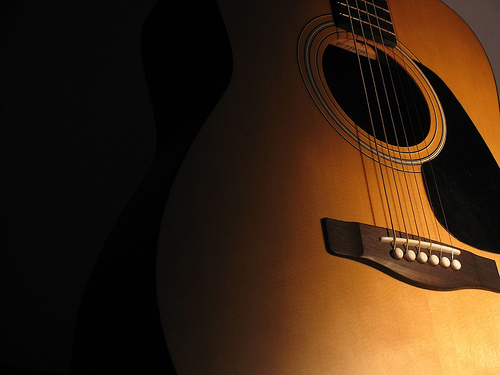guitar: (156, 1, 500, 375)
